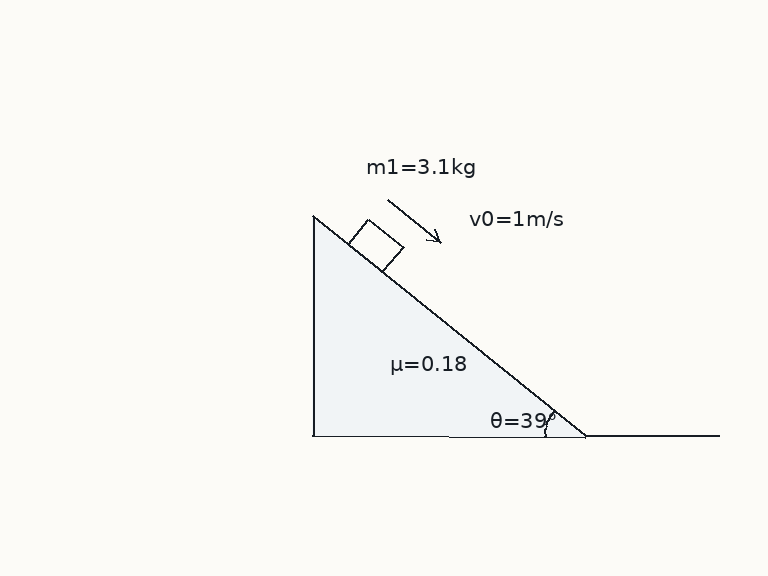block: (346, 217, 405, 274)
ramp: (311, 214, 587, 438)
